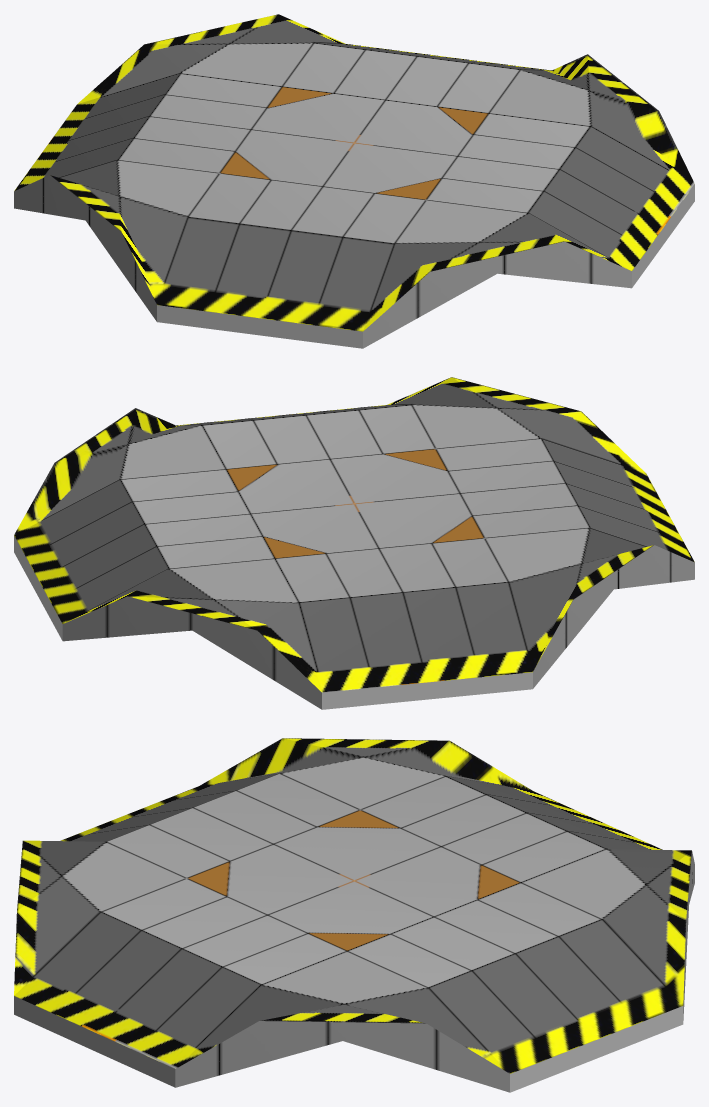
File: landingpad3.obj
The picture shows the model from 3 angles, top to bottom: view 1: azimuth 30°, elevation 25°; view 2: azimuth 150°, elevation 25°; view 3: azimuth 270°, elevation 25°; orthographic projection. The views are drawn at different scales.
Parts seen in each view (by area): view 1: LandingPad3_Cube.022; view 2: LandingPad3_Cube.022; view 3: LandingPad3_Cube.022.
Boxes of the visible parts, x1,y1,x2,y2 form: LandingPad3_Cube.022: [14, 14, 694, 348]; LandingPad3_Cube.022: [14, 377, 694, 709]; LandingPad3_Cube.022: [14, 738, 694, 1092].
Bounding box in the file's own units: 0.0242 × 0.00267 × 0.0242.
